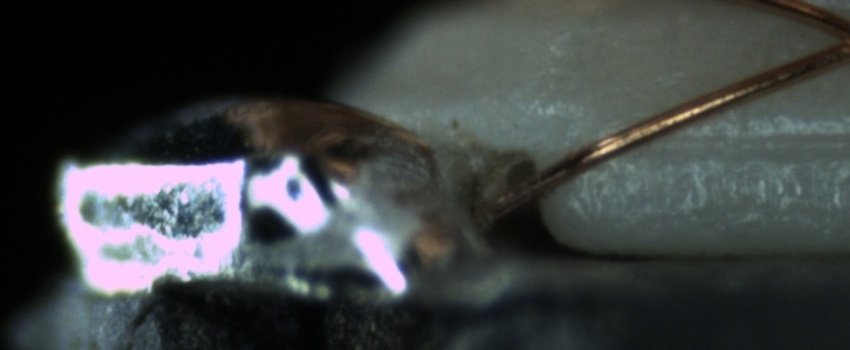DL: (639, 110, 849, 172)
